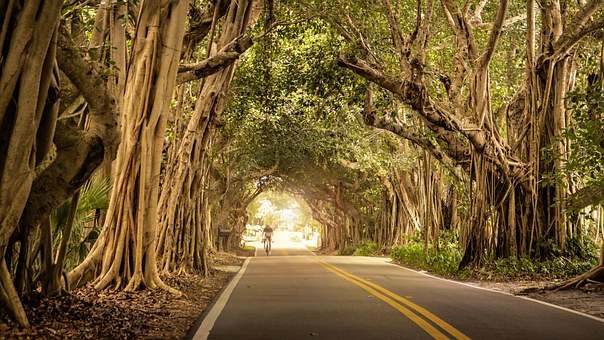bikerider: (257, 219, 278, 260)
